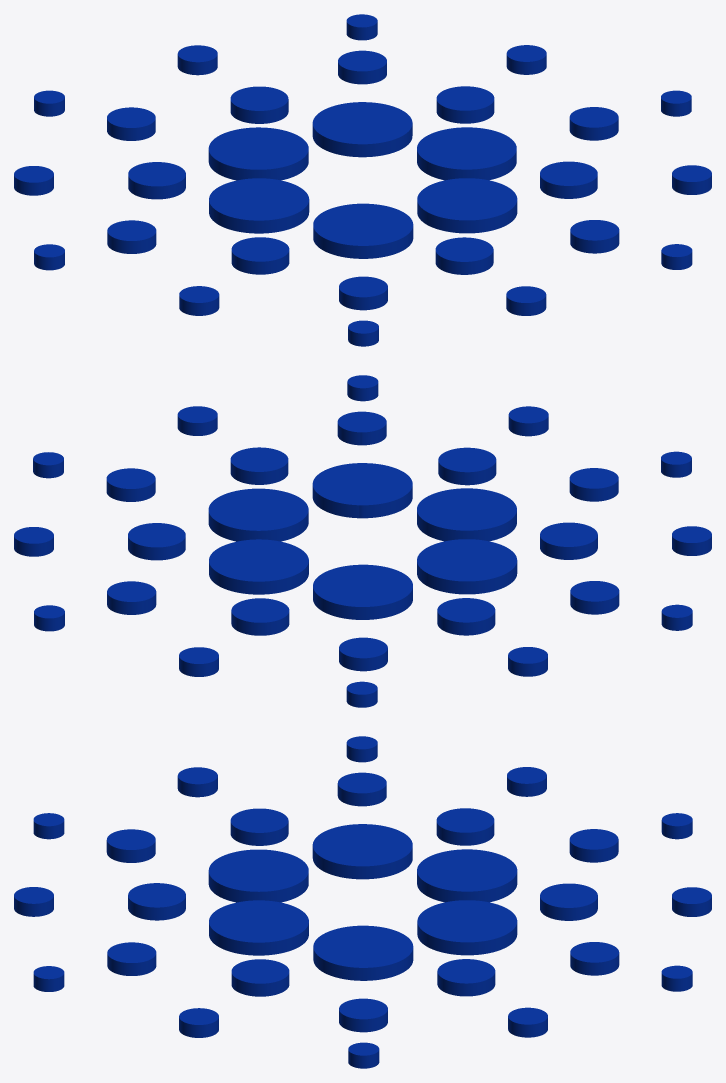
Rendered from Cardano3D.fbx.
The picture shows the model from 3 angles, top to bottom: view 1: azimuth 30°, elevation 25°; view 2: azimuth 150°, elevation 25°; view 3: azimuth 270°, elevation 25°; orthographic projection.
Parts seen in each view (by area): view 1: Cardano3d; view 2: Cardano3d; view 3: Cardano3d.
Part boxes in pixels (x1,y1,x2,y2): Cardano3d: (14, 14, 711, 346); Cardano3d: (14, 375, 711, 707); Cardano3d: (14, 736, 711, 1068).
Size of the model in its own units: 52.78 by 1 by 48.75.
